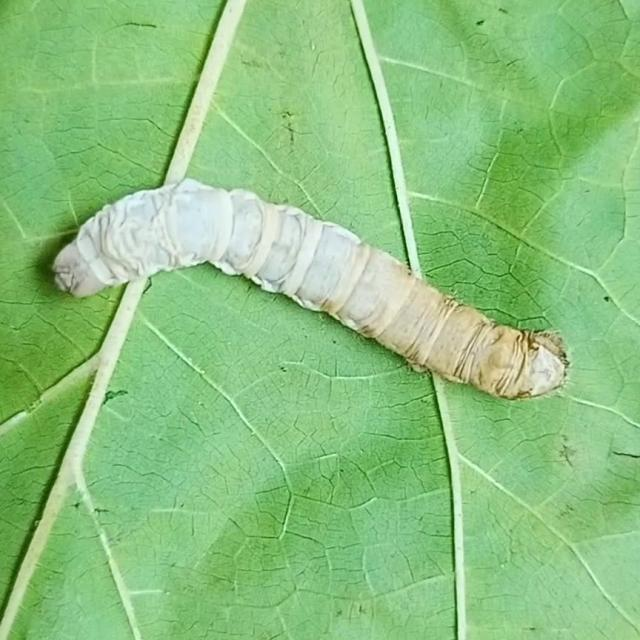Grasserie: (39, 153, 580, 425)
